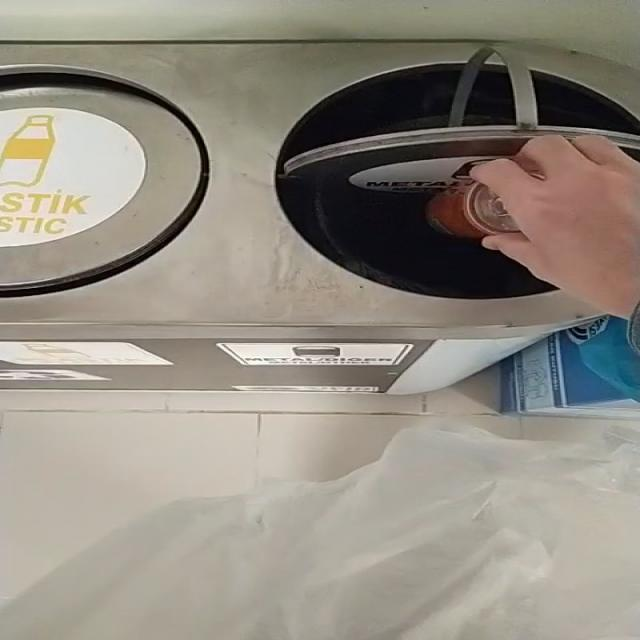bin: (1, 41, 638, 395), (0, 41, 637, 395)
metal: (427, 181, 521, 238)
